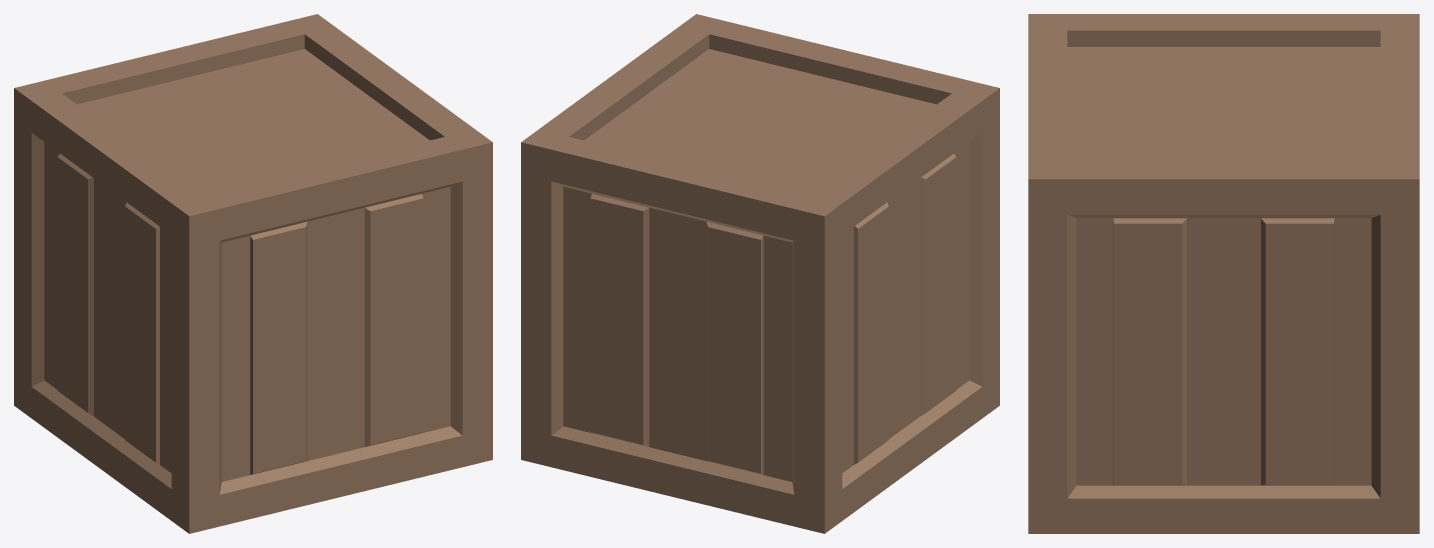
File: Crate.fbx
3 renders of one model, left to right at view 1: azimuth 30°, elevation 25°; view 2: azimuth 150°, elevation 25°; view 3: azimuth 270°, elevation 25°, orthographic. The views are drawn at different scales.
Visible parts, largest first — view 1: Crate; view 2: Crate; view 3: Crate.
Part boxes in pixels (box(x1,y1,x2,y2)): Crate: box(14, 14, 492, 533); Crate: box(521, 14, 999, 533); Crate: box(1028, 14, 1419, 533).
Size of the model in its own units: 140 by 140 by 140.
